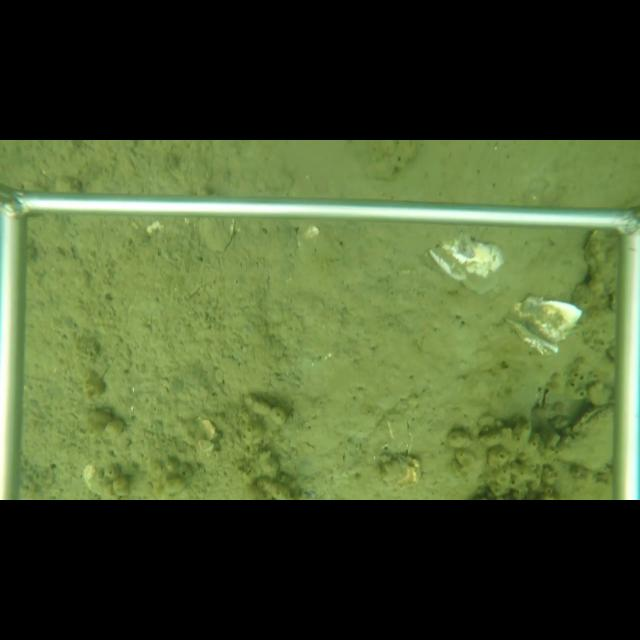Oyster-Closed: (547, 400, 614, 472)
